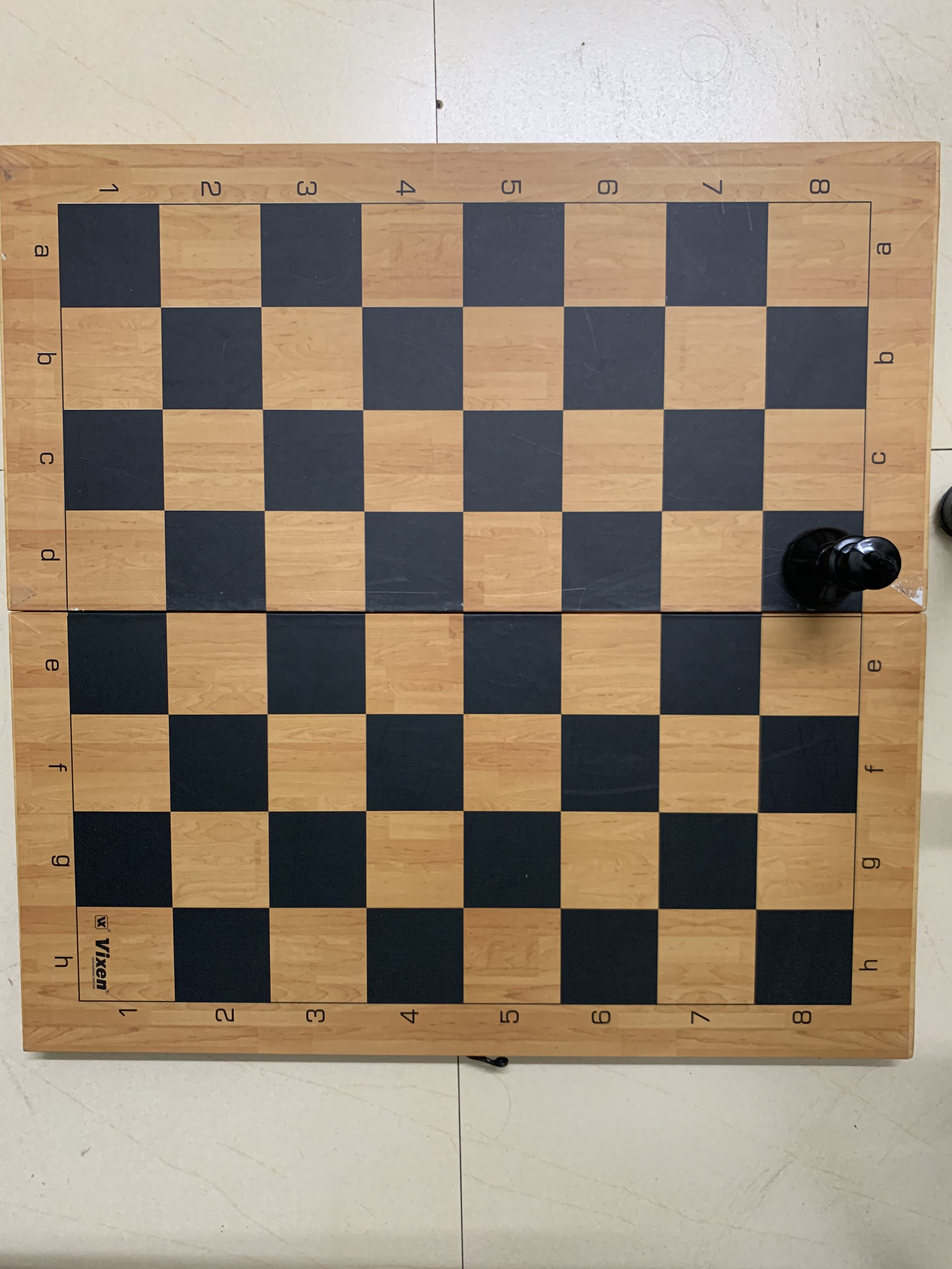black_king: (764, 508, 911, 616)
